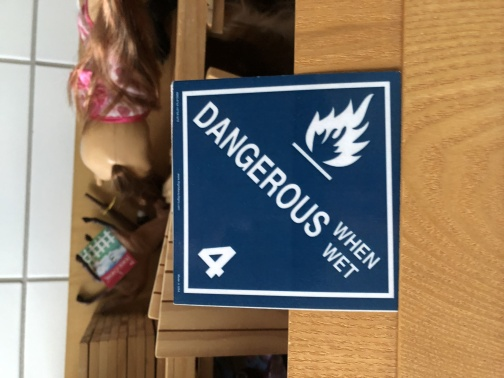DangerousWhenWet: (174, 81, 398, 301)
